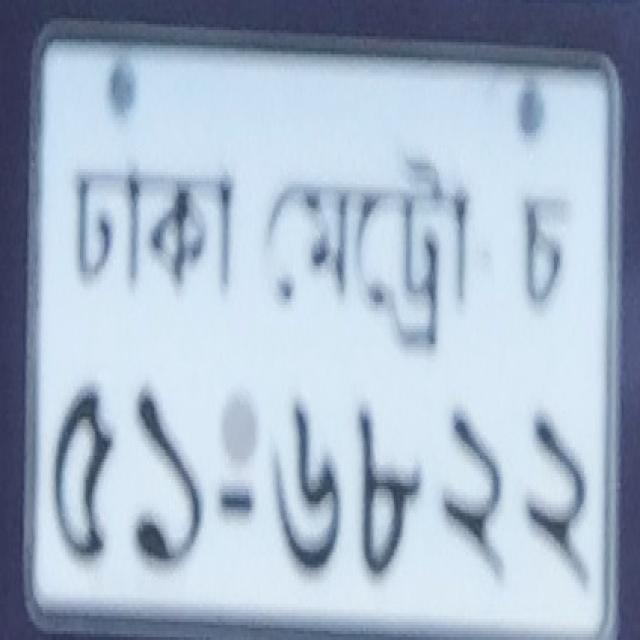numberplate: (19, 16, 625, 636)
